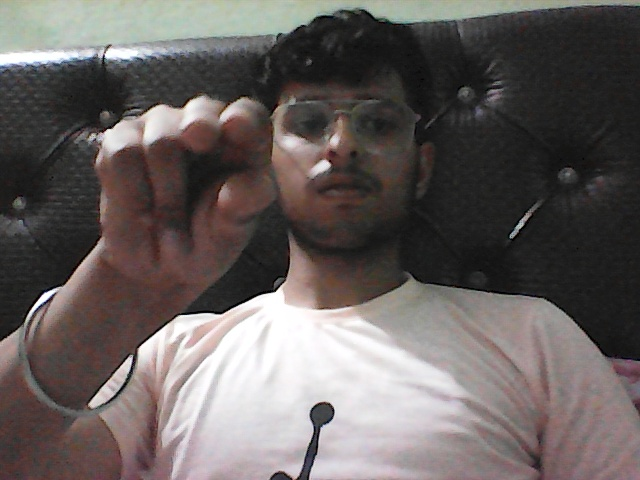no: (53, 85, 287, 324)
